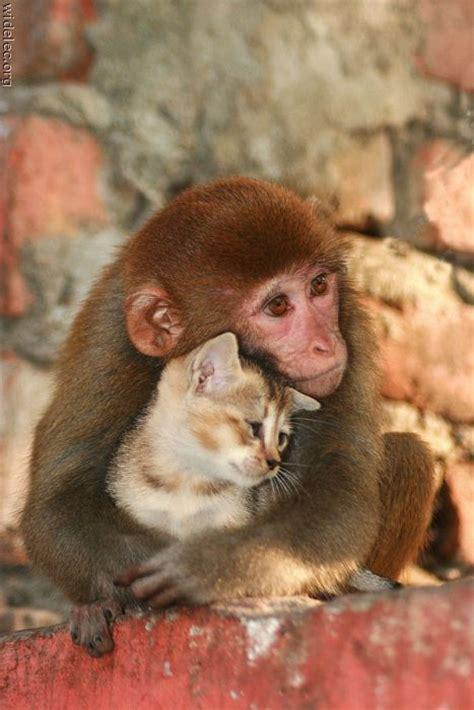cat: (108, 334, 320, 542)
monkey: (22, 179, 430, 655)
